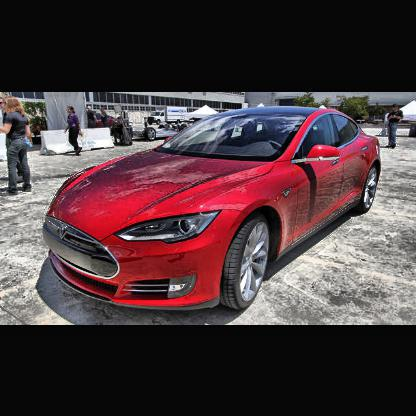Tesla Model S Sedan 2012: (38, 103, 389, 318)
